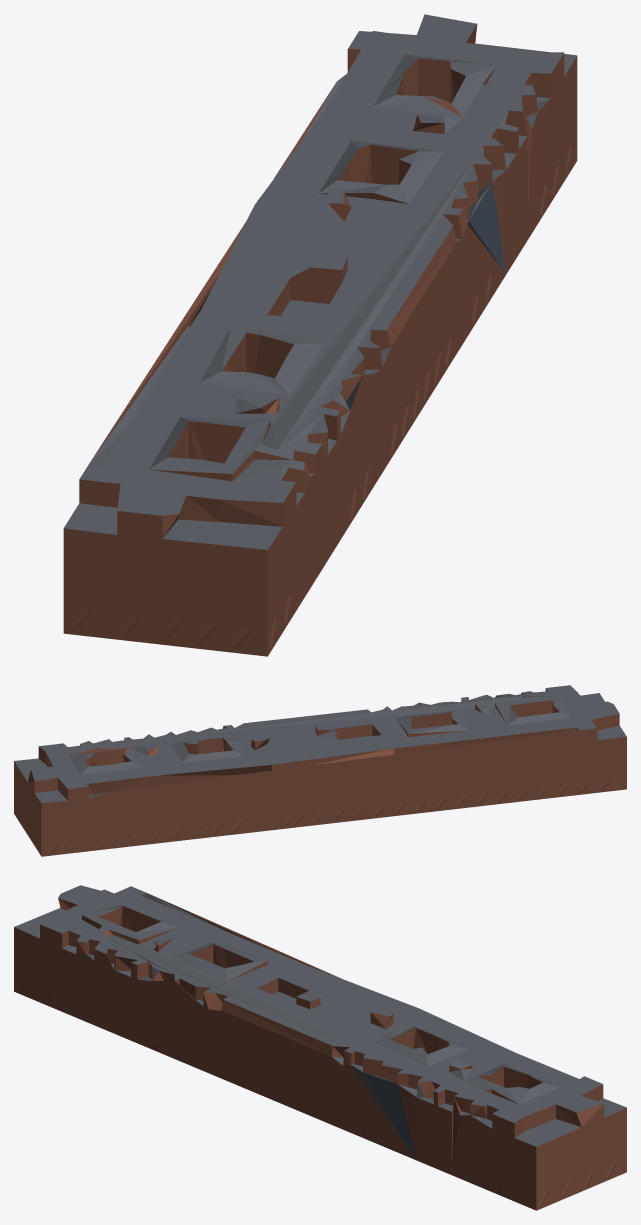
The model's file is blankenstraat-15.lod2.glb.
The picture shows the model from 3 angles, top to bottom: view 1: azimuth 30°, elevation 25°; view 2: azimuth 150°, elevation 25°; view 3: azimuth 270°, elevation 25°; orthographic projection. The views are drawn at different scales.
Visible parts, largest first — view 1: lod2; view 2: lod2; view 3: lod2.
Part boxes in pixels (<box>): lod2: <box>63,14,577,656</box>; lod2: <box>14,685,626,856</box>; lod2: <box>14,885,626,1210</box>.
Size of the model in its own units: 114 by 18.41 by 115.
